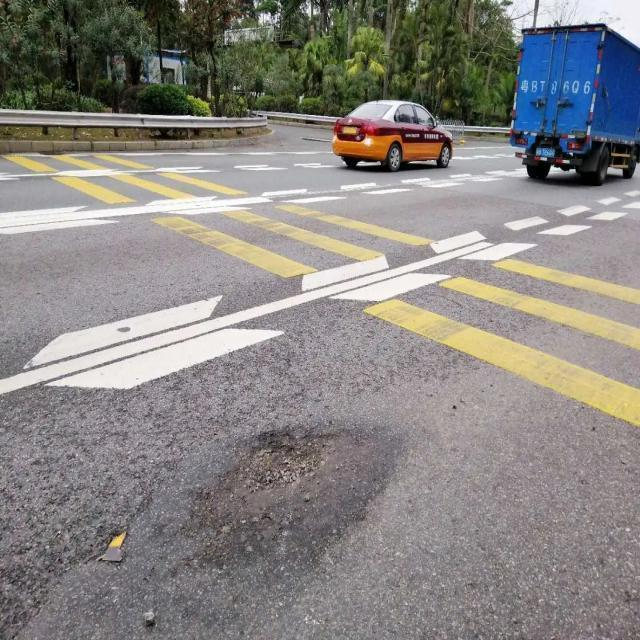Pothole: (191, 425, 340, 538)
